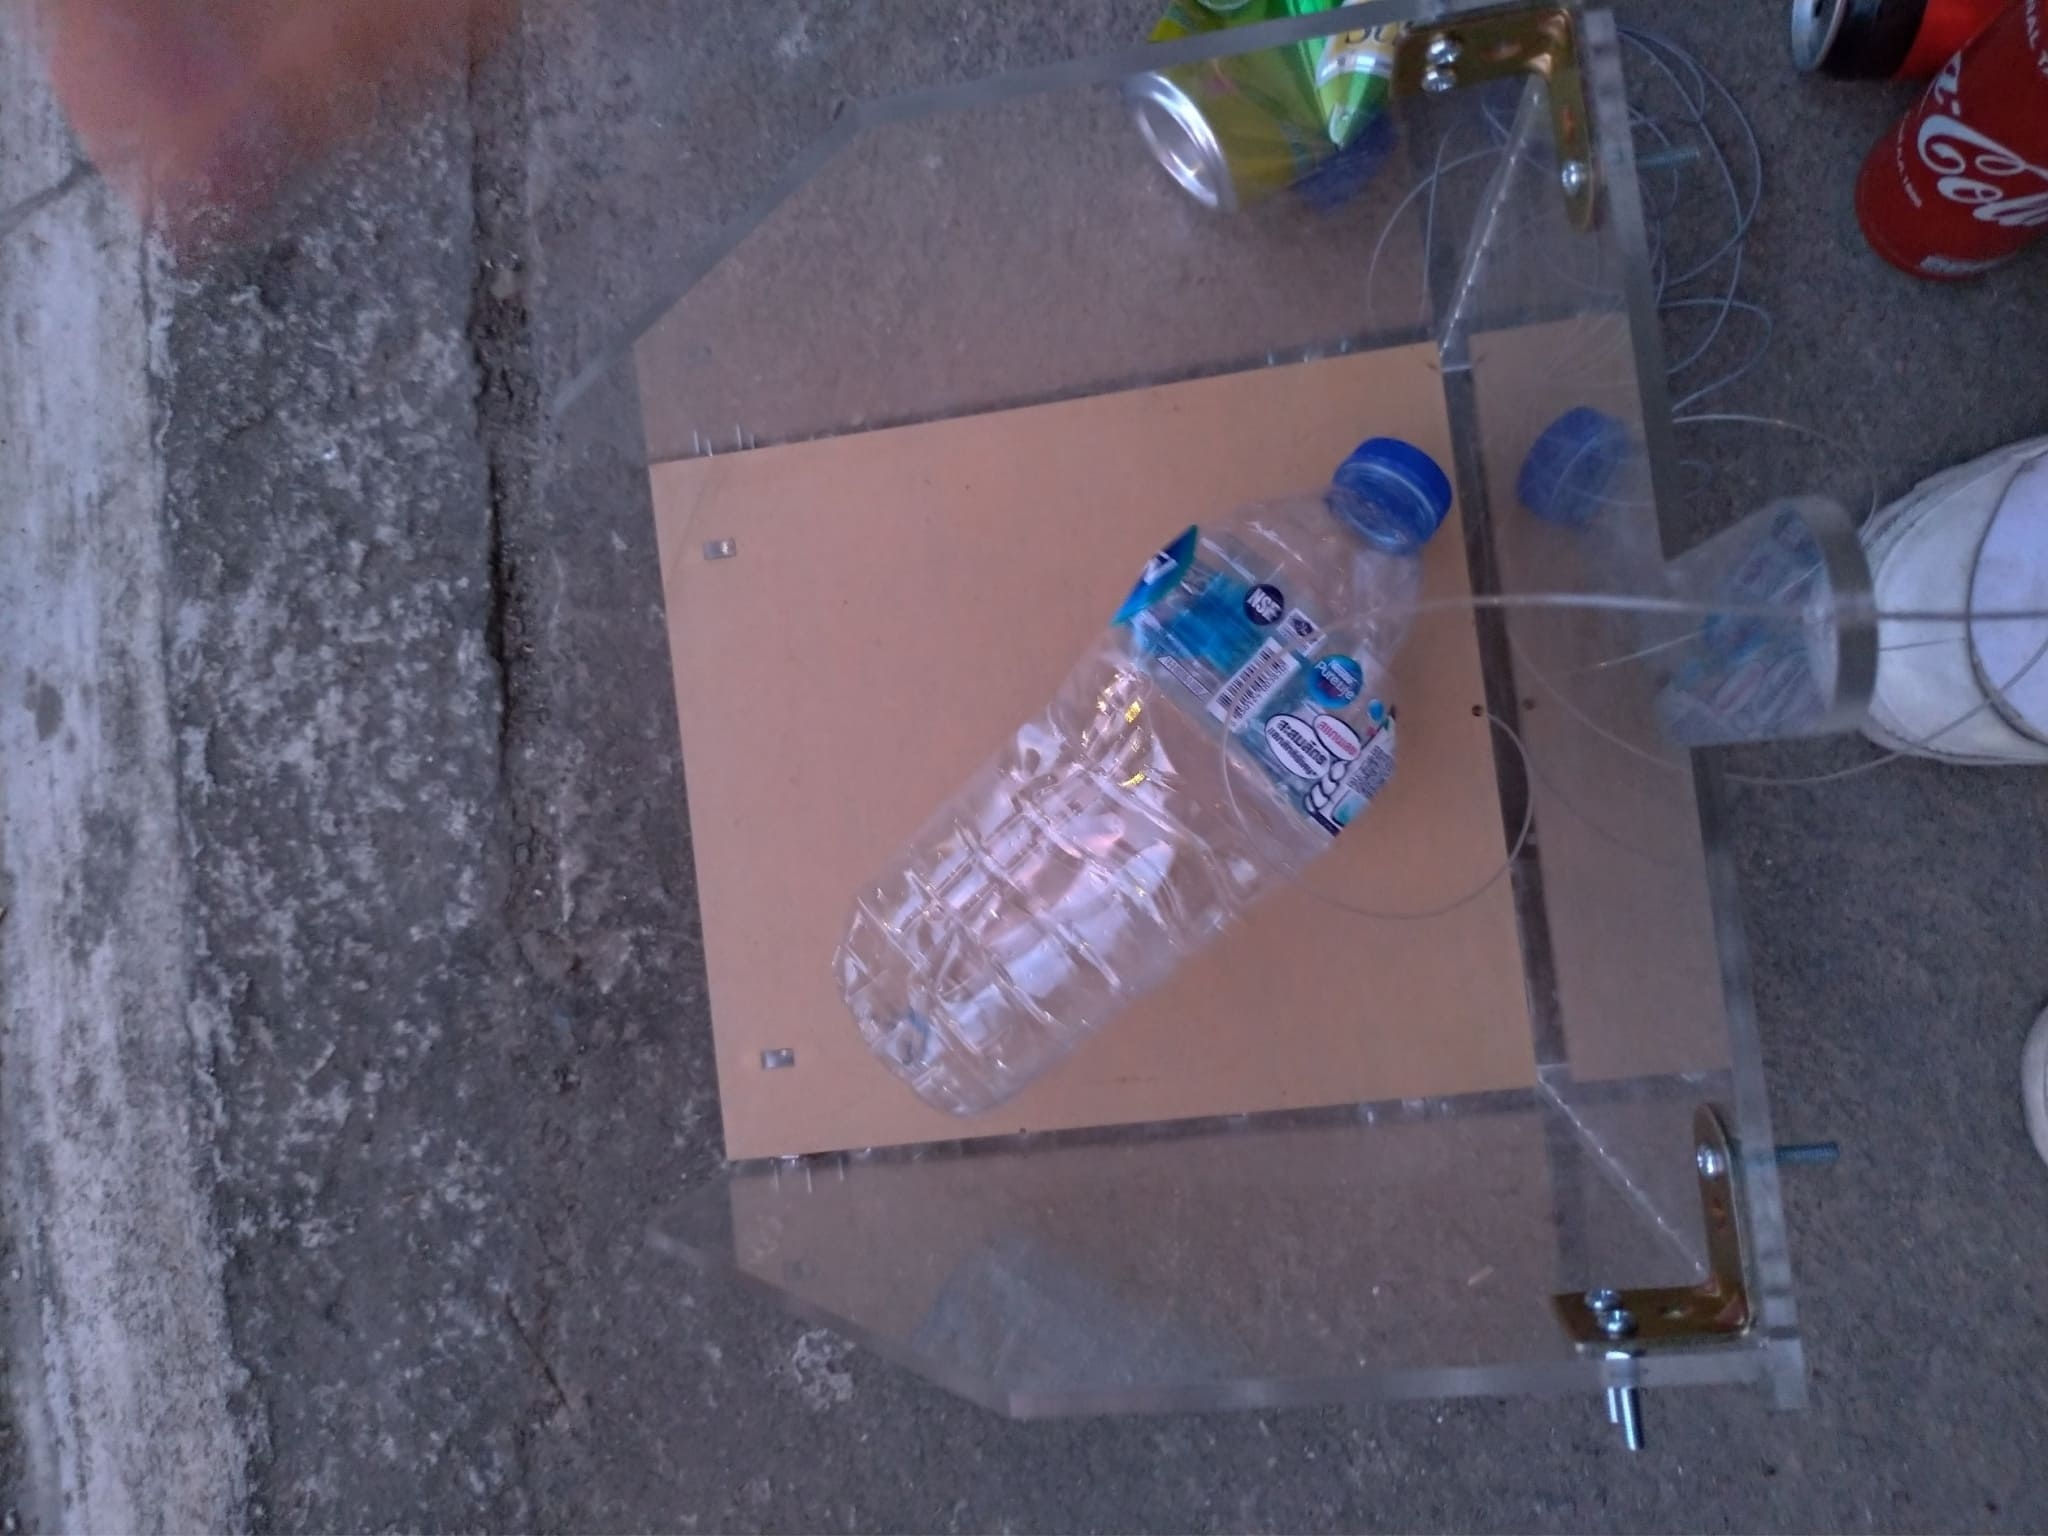AlCan: (1127, 5, 1400, 216), (1856, 5, 2048, 286), (1792, 2, 1980, 73)
PlasticBottle: (839, 440, 1456, 1126)
